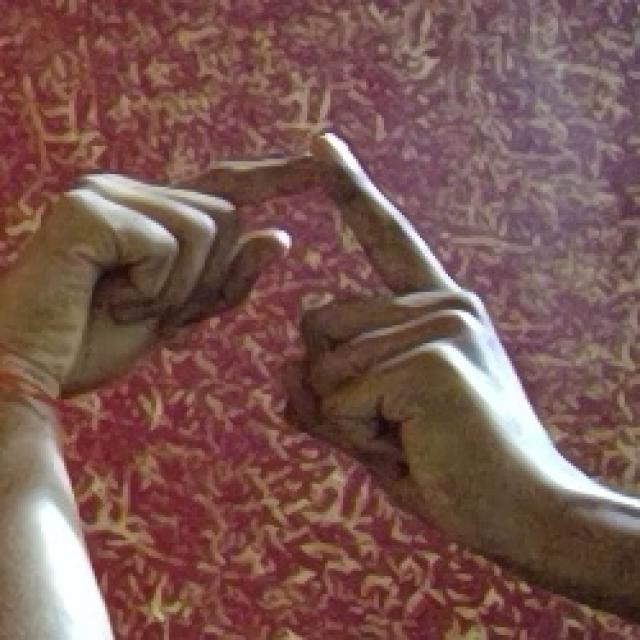Alphabet-E: (44, 124, 530, 561)
